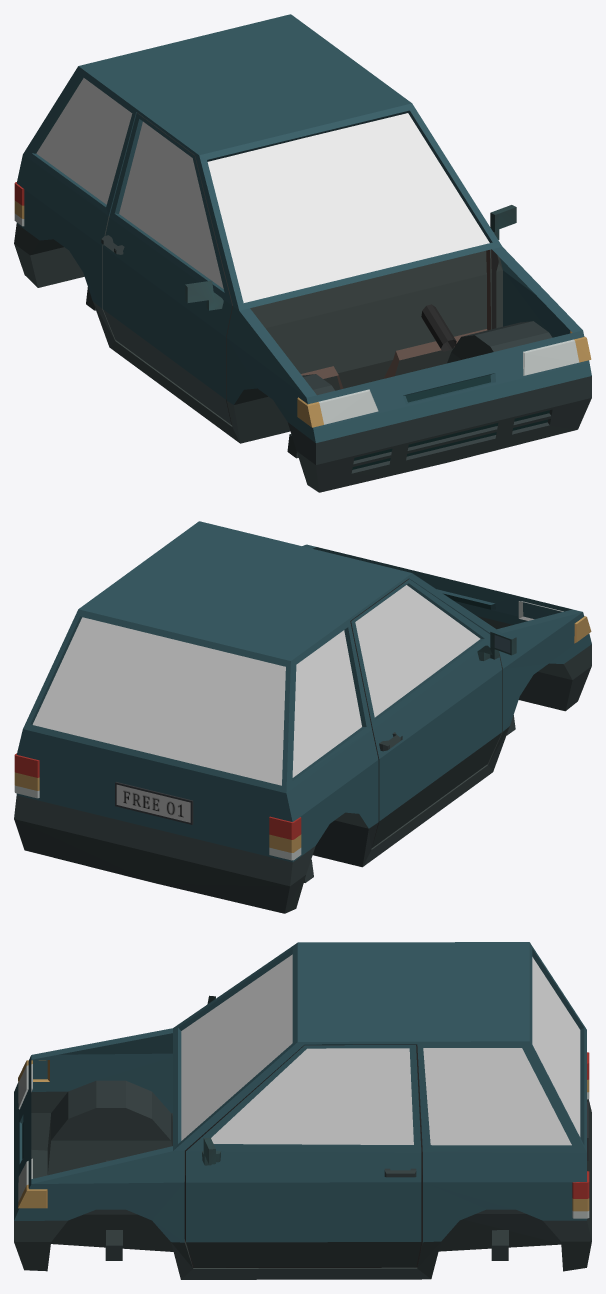
File: AutoP5.fbx
The picture shows the model from 3 angles, top to bottom: view 1: azimuth 30°, elevation 25°; view 2: azimuth 150°, elevation 25°; view 3: azimuth 270°, elevation 25°; orthographic projection. The views are drawn at different scales.
Visible parts, largest first — view 1: car body, windows, door r, win door r.001, interior, door l; view 2: car body, windows, door r, win door r.001, free number; view 3: car body, door l, windows, win door l.001.
Boxes of the visible parts, box(x1,y1,x2,y2) form: car body: box(14, 14, 591, 492); windows: box(36, 78, 489, 302); door r: box(101, 113, 232, 424); win door r.001: box(119, 121, 223, 288); interior: box(301, 250, 490, 389); door l: box(490, 205, 516, 329); car body: box(14, 521, 591, 913); windows: box(32, 617, 361, 785); door r: box(350, 579, 516, 847); win door r.001: box(355, 585, 480, 717); free number: box(115, 782, 193, 824); car body: box(14, 942, 591, 1279); door l: box(184, 1044, 422, 1267); windows: box(181, 954, 580, 1145); win door l.001: box(211, 1048, 413, 1144).
Size of the model in its own units: 218 by 151 by 346.
Materials: 2 (1 with a texture image).
